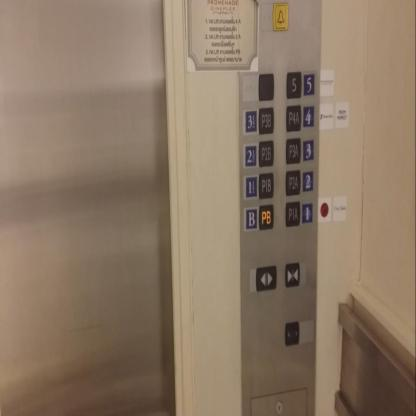1: (301, 202, 313, 224)
2: (302, 169, 314, 191)
3: (302, 137, 314, 161)
4: (302, 103, 315, 129)
5: (286, 69, 302, 99), (302, 70, 315, 96)
B: (245, 207, 257, 229)
P1A: (285, 199, 301, 226)
P1B: (258, 170, 274, 199)
P2A: (285, 168, 301, 195)
P2B: (258, 139, 274, 168)
P3A: (285, 135, 301, 164)
P3B: (258, 105, 274, 134)
P4A: (286, 103, 302, 132)
PB: (258, 202, 274, 231)
blur: (283, 319, 300, 347)
close: (284, 261, 300, 288)
empty: (258, 71, 274, 101)
open: (254, 264, 277, 291)
text_1-5: (245, 175, 256, 197)
text_2-5: (245, 144, 256, 166)
text_3-5: (245, 110, 256, 132)
